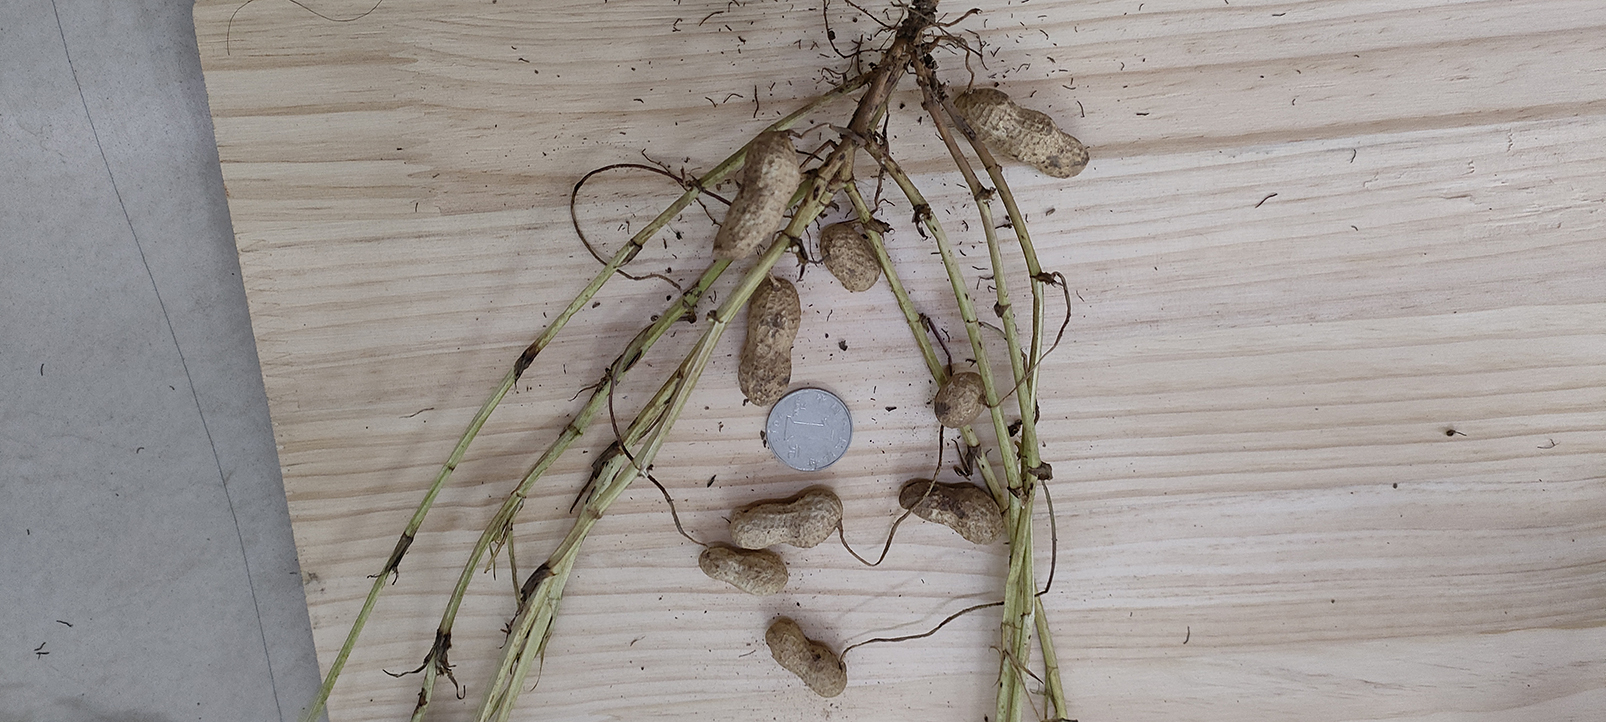h: (954, 90, 1089, 180), (715, 131, 804, 257), (737, 277, 802, 405), (727, 489, 845, 552), (766, 619, 850, 700), (698, 542, 789, 596), (819, 225, 882, 294), (935, 372, 987, 429)
l: (898, 477, 1007, 545)
